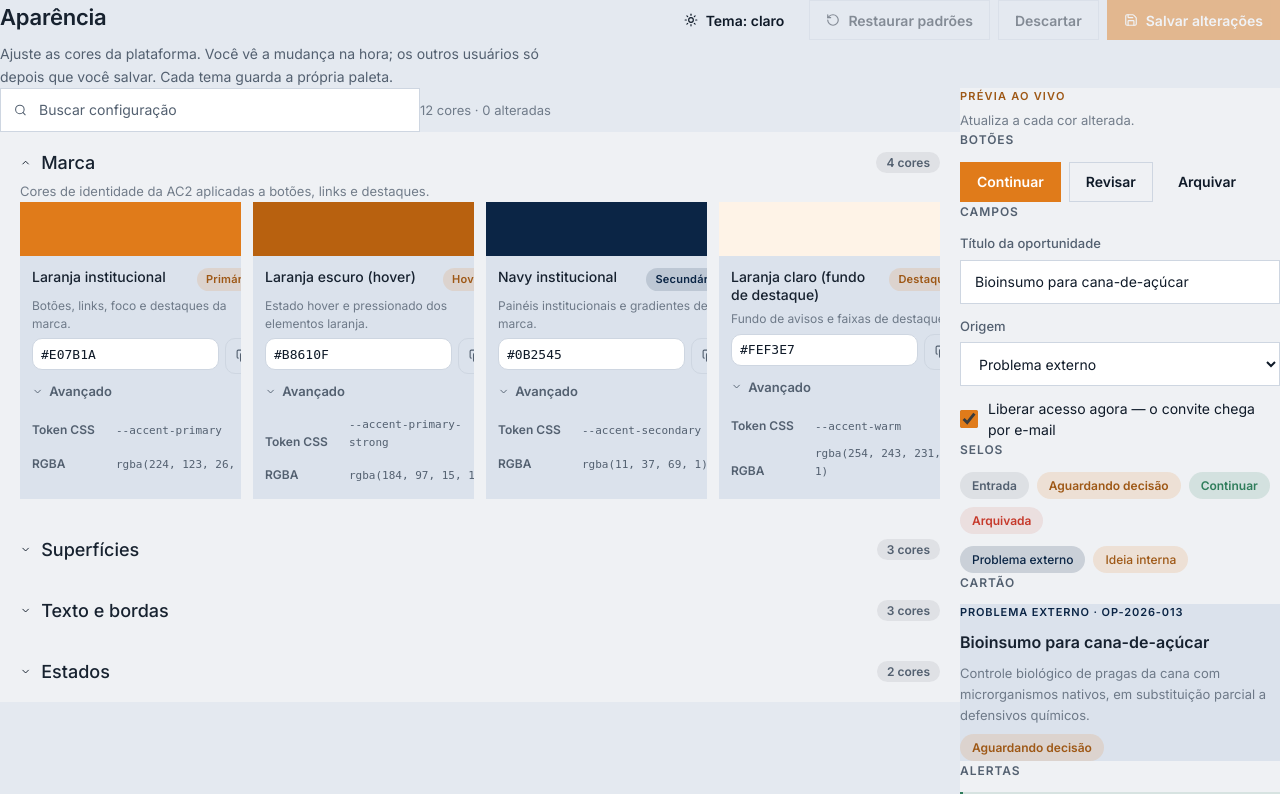
Test: AppearanceSection › esconde o nome da custom property ate abrir o bloco Avancado
Click the button "Avançado" below "Primária" at {"x": 72, "y": 391}, box [32,383,112,399]
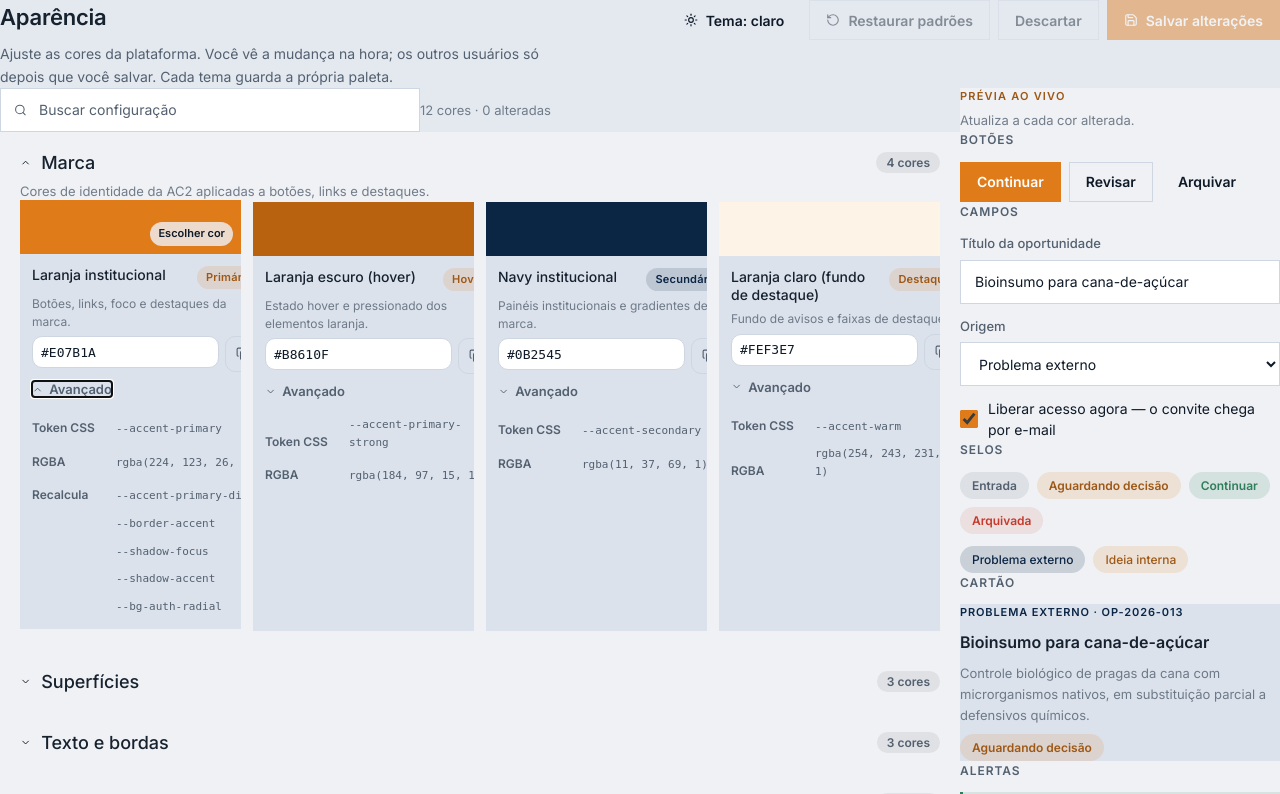
expect the text "--accent-primary" is shown: met, box [116,420,222,438]
expect the text "--shadow-focus" is shown: met, box [116,542,209,560]
